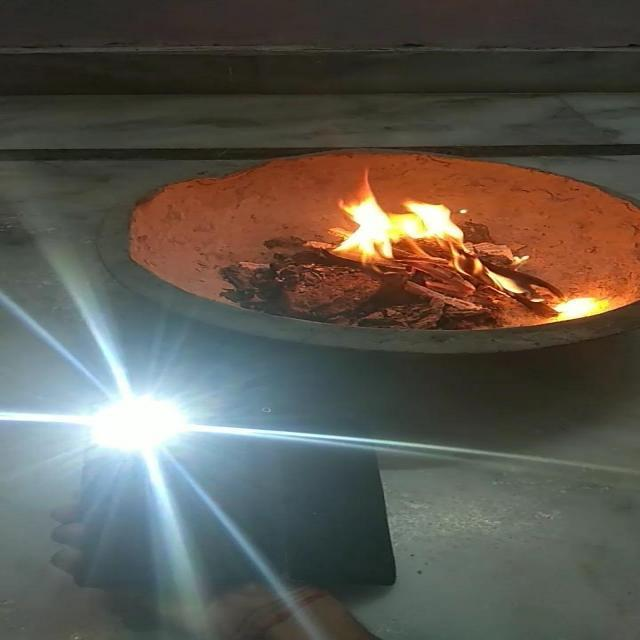fire: (310, 143, 622, 334)
smoke: (0, 350, 237, 492)
